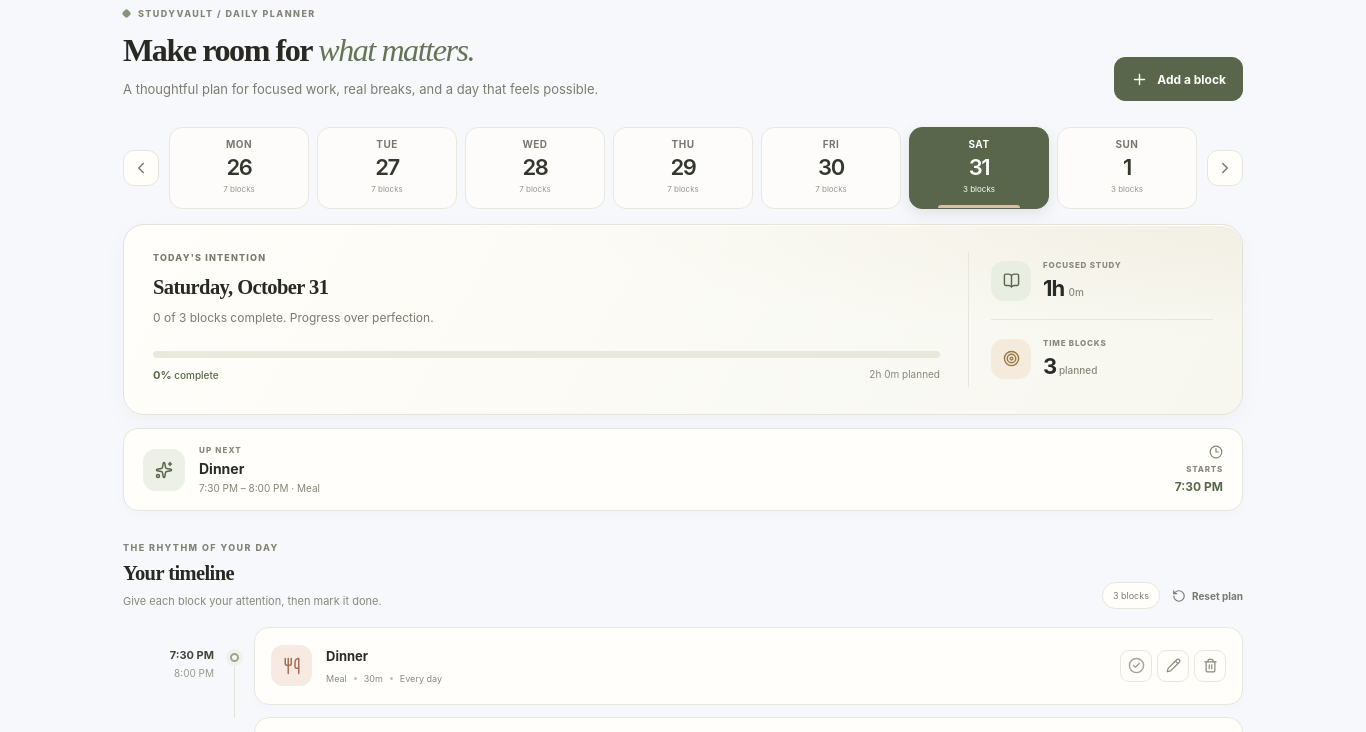
Test: DailyTimetable › shows the weekly selector, daily summary, and starter routine
Click the button "Mon 26 7 blocks" at (239, 168), box x1=169 y1=127 x2=309 y2=209
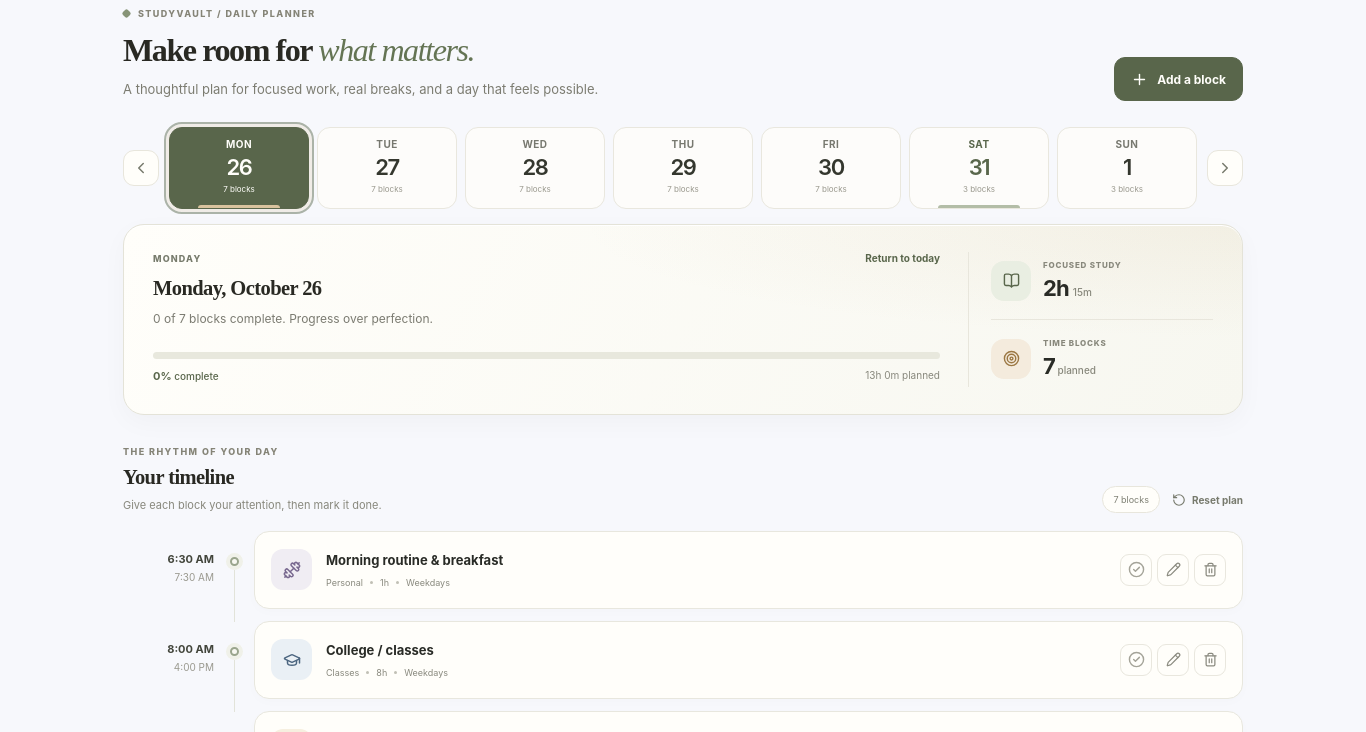
Check: the navigation bar named "Choose a day" is shown, box x1=123 y1=127 x2=1243 y2=209
Check: the text "Morning routine & breakfast" is shown, box x1=326 y1=552 x2=503 y2=568
Check: the text "College / classes" is shown, box x1=326 y1=642 x2=434 y2=658
